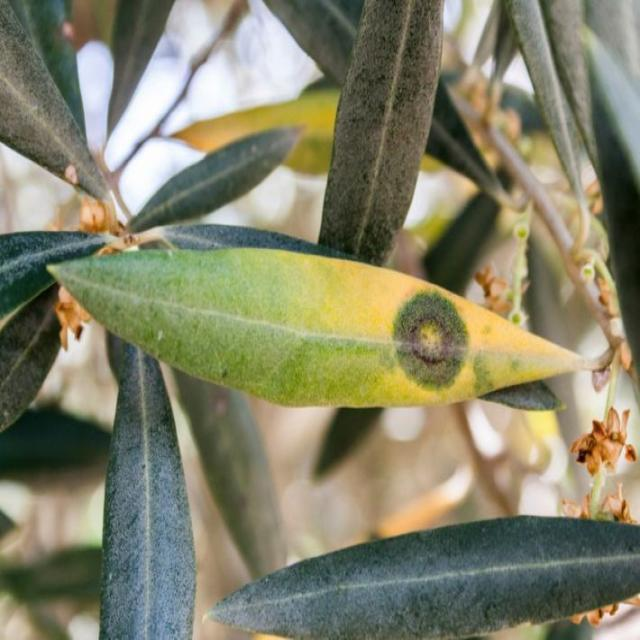OlivePeacockSpot: (47, 243, 577, 407)
